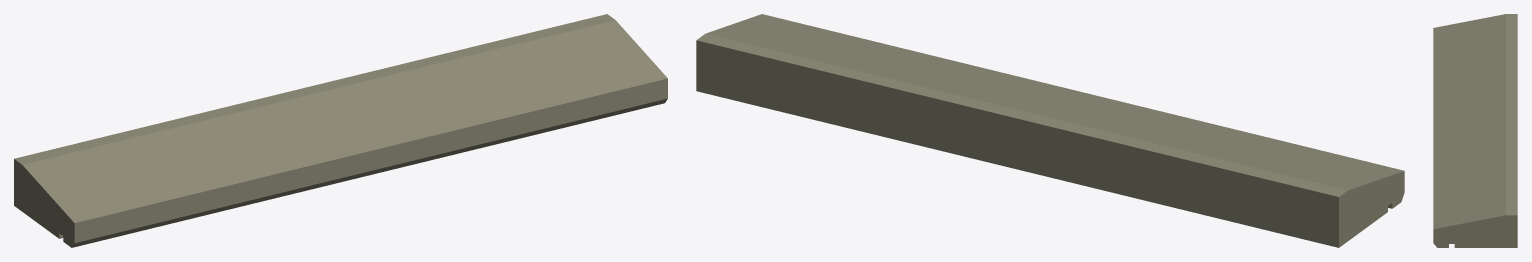
File: cedar-source-window-paired-sill.lod0.glb
The picture shows the model from 3 angles, left to right: view 1: azimuth 30°, elevation 25°; view 2: azimuth 150°, elevation 25°; view 3: azimuth 270°, elevation 25°; orthographic projection. The views are drawn at different scales.
Parts seen in each view (by area): view 1: window-sill; view 2: window-sill; view 3: window-sill.
Part boxes in pixels (bbox=[...]): window-sill: bbox=[14, 14, 667, 247]; window-sill: bbox=[696, 14, 1404, 247]; window-sill: bbox=[1433, 14, 1517, 247].
Bounding box in the file's own units: 1.64 × 0.124 × 0.29.
